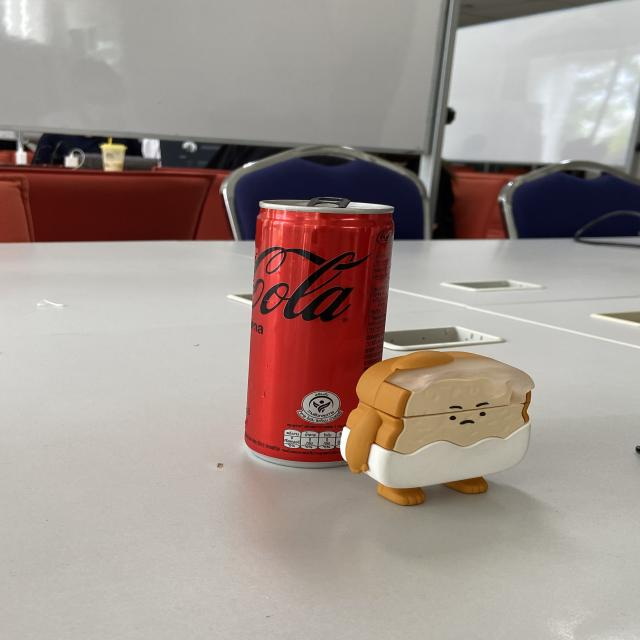can: (242, 196, 396, 471)
